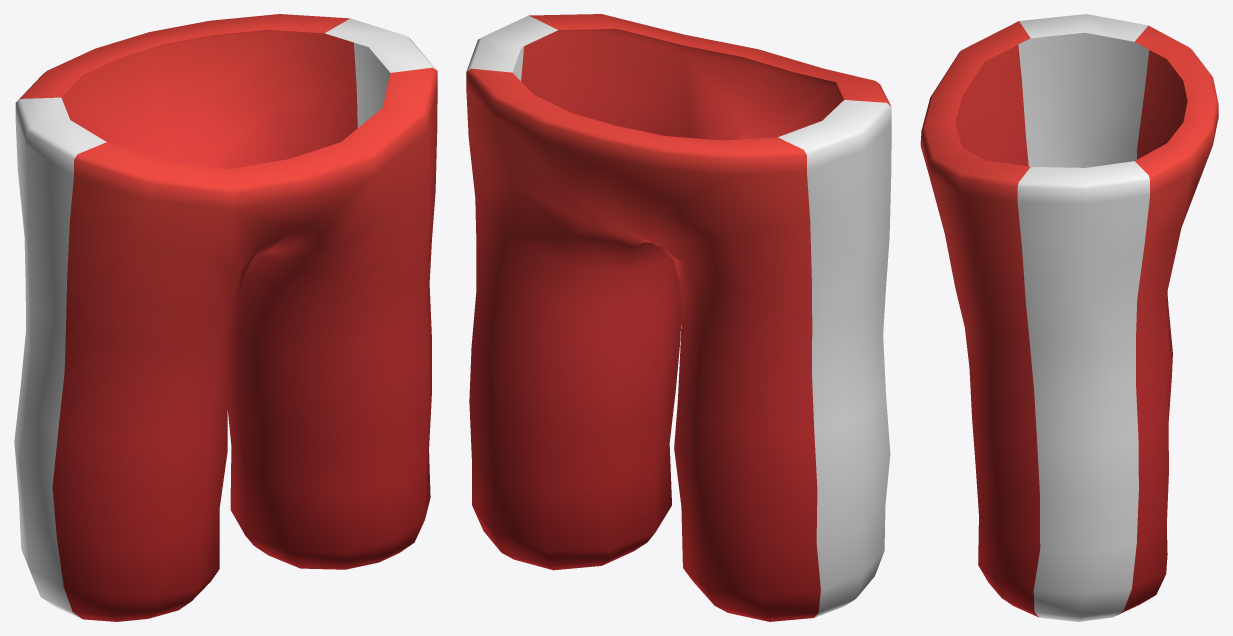
The model's file is Pants_04.glb.
The picture shows the model from 3 angles, left to right: view 1: azimuth 30°, elevation 25°; view 2: azimuth 150°, elevation 25°; view 3: azimuth 270°, elevation 25°; orthographic projection. The views are drawn at different scales.
Visible parts, largest first — view 1: Pants_04; view 2: Pants_04; view 3: Pants_04.
Part boxes in pixels (x1=…): Pants_04: x1=14, y1=14, x2=437, y2=621; Pants_04: x1=466, y1=14, x2=891, y2=621; Pants_04: x1=920, y1=14, x2=1218, y2=621.
Bounding box in the file's own units: 0.2497 × 0.2964 × 0.1787.
Materials: 1 (1 with a texture image).
